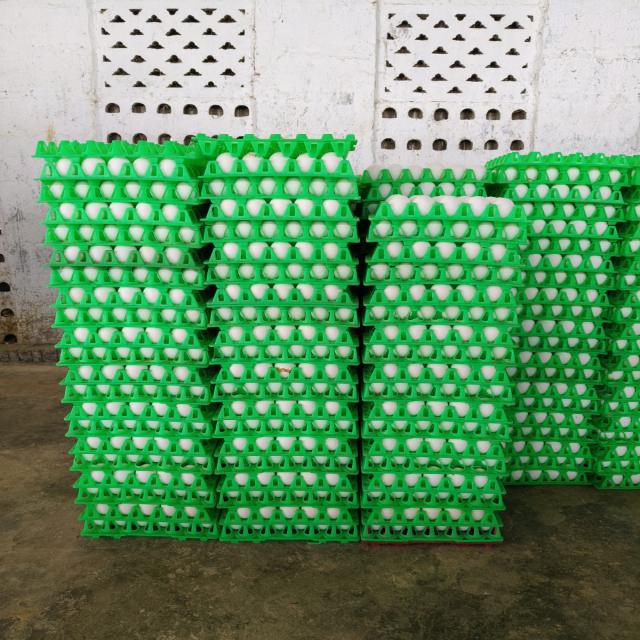egg_tray: (45, 202, 217, 538), (214, 325, 357, 539), (91, 2, 254, 140), (361, 400, 508, 541), (67, 402, 218, 539), (361, 400, 507, 541), (361, 401, 508, 541), (67, 402, 217, 539), (215, 399, 357, 541), (206, 199, 357, 326), (488, 154, 628, 290), (52, 247, 210, 367), (369, 195, 514, 316), (60, 326, 212, 439), (206, 199, 357, 305), (363, 363, 511, 471), (362, 401, 509, 508), (214, 400, 358, 508), (213, 400, 357, 507), (361, 438, 505, 542), (365, 196, 521, 288), (44, 202, 204, 290), (49, 243, 205, 330), (368, 196, 522, 283), (49, 243, 205, 328), (66, 401, 214, 490), (364, 315, 513, 401), (362, 324, 515, 403), (212, 324, 358, 402), (61, 363, 212, 437), (67, 364, 214, 440), (212, 323, 359, 398), (362, 399, 505, 476), (594, 244, 639, 488), (66, 401, 214, 475), (36, 142, 204, 205), (45, 225, 207, 290), (214, 400, 356, 474), (196, 136, 357, 201), (74, 467, 219, 539), (218, 469, 359, 542), (49, 243, 204, 305), (505, 380, 597, 483), (519, 201, 622, 291), (519, 226, 617, 317), (66, 394, 212, 451), (367, 196, 527, 248), (367, 195, 526, 247), (515, 287, 615, 366), (48, 243, 205, 292), (364, 240, 521, 289), (203, 198, 357, 247), (508, 333, 603, 412), (43, 198, 202, 245), (202, 152, 357, 200), (42, 202, 203, 248), (363, 281, 521, 326), (206, 241, 357, 288), (210, 278, 357, 326), (361, 470, 505, 519), (76, 490, 217, 540), (363, 322, 516, 368), (360, 162, 486, 217), (513, 307, 605, 382), (195, 134, 355, 177), (57, 323, 212, 367), (210, 282, 358, 328), (39, 163, 201, 205), (74, 469, 217, 516), (523, 220, 619, 290), (34, 141, 206, 180), (209, 282, 358, 327), (53, 287, 207, 330), (362, 284, 519, 326), (362, 362, 512, 404), (60, 364, 212, 405), (70, 431, 214, 474), (212, 360, 358, 402), (66, 396, 213, 437), (363, 400, 509, 441), (501, 190, 623, 239), (211, 324, 358, 364), (214, 399, 357, 440), (518, 201, 623, 256), (362, 435, 506, 474), (218, 469, 357, 509), (79, 501, 219, 540), (487, 152, 630, 190), (514, 361, 596, 427), (361, 507, 502, 544), (361, 506, 502, 543), (220, 505, 359, 542), (523, 238, 617, 290), (523, 204, 618, 255), (523, 225, 619, 274), (38, 156, 198, 185), (592, 390, 639, 488), (494, 168, 625, 203), (361, 183, 486, 219), (201, 152, 355, 181), (362, 182, 486, 218), (594, 390, 639, 488), (503, 436, 594, 484), (202, 174, 358, 202), (513, 381, 598, 432), (43, 202, 202, 229), (361, 169, 485, 203), (518, 200, 623, 239), (194, 134, 356, 159), (379, 194, 517, 223), (66, 402, 210, 429), (599, 323, 639, 420), (507, 399, 597, 441), (508, 402, 596, 444), (511, 192, 625, 223), (505, 434, 593, 473), (503, 447, 593, 485), (523, 253, 614, 290), (519, 286, 617, 320), (507, 349, 604, 383), (512, 319, 606, 354), (361, 162, 487, 186), (361, 162, 486, 186), (501, 182, 623, 206), (612, 202, 639, 291), (593, 386, 638, 432), (502, 467, 591, 486), (593, 411, 639, 446), (611, 237, 639, 292), (97, 490, 187, 507), (599, 385, 639, 422), (607, 283, 639, 327), (602, 354, 639, 387), (607, 286, 639, 324), (593, 463, 639, 489), (178, 493, 216, 524), (607, 322, 639, 355), (623, 168, 639, 222), (102, 365, 160, 379), (620, 203, 638, 238), (626, 155, 639, 203), (481, 283, 512, 302), (163, 368, 201, 382), (319, 495, 339, 518), (193, 450, 212, 472), (165, 248, 193, 262), (58, 158, 82, 174), (588, 354, 602, 379), (378, 285, 399, 301), (338, 493, 356, 510), (134, 158, 151, 174), (509, 248, 519, 274), (92, 158, 106, 175), (505, 304, 515, 325), (517, 383, 530, 399), (465, 308, 485, 318), (299, 528, 317, 538), (512, 371, 533, 379), (261, 528, 279, 537), (173, 335, 190, 344), (188, 384, 203, 394), (149, 327, 159, 342), (394, 273, 406, 285), (537, 309, 557, 316), (162, 347, 174, 358), (57, 247, 69, 258), (299, 289, 307, 304), (495, 186, 507, 196), (516, 351, 523, 368), (188, 373, 202, 381), (317, 513, 326, 524), (555, 383, 569, 390), (61, 353, 73, 361), (597, 207, 610, 214), (321, 477, 328, 490), (631, 232, 639, 243), (394, 370, 405, 378), (145, 512, 156, 520), (190, 384, 202, 391), (372, 213, 378, 226), (171, 457, 182, 464), (274, 512, 281, 523), (309, 289, 317, 298), (297, 478, 309, 484), (367, 318, 379, 324), (309, 299, 319, 306), (84, 162, 91, 172), (374, 208, 380, 219), (367, 278, 378, 284), (287, 263, 300, 268), (107, 454, 115, 462), (153, 371, 160, 380), (470, 403, 480, 409), (348, 479, 355, 487), (372, 405, 380, 412), (594, 416, 601, 424), (150, 457, 161, 462), (513, 226, 518, 237), (487, 224, 493, 233), (121, 163, 126, 173), (129, 455, 136, 462), (183, 237, 191, 243), (124, 247, 136, 251), (378, 309, 384, 317), (514, 336, 519, 345), (503, 273, 509, 280), (159, 159, 173, 162), (386, 439, 392, 446), (83, 158, 93, 162), (563, 455, 571, 460), (112, 158, 125, 161), (163, 478, 169, 484), (527, 441, 539, 444), (633, 292, 639, 298), (547, 169, 556, 173), (629, 356, 636, 361), (466, 444, 473, 449), (227, 286, 231, 294), (591, 389, 595, 397), (102, 365, 110, 369), (93, 158, 101, 162), (161, 134, 169, 138), (265, 263, 275, 266), (190, 350, 195, 356), (127, 252, 132, 258), (68, 379, 74, 384), (407, 365, 414, 369), (186, 473, 193, 477), (144, 159, 148, 166), (313, 516, 317, 523), (77, 385, 81, 392), (501, 412, 505, 419), (351, 271, 354, 280), (498, 446, 501, 455), (172, 446, 177, 451), (196, 470, 201, 475), (298, 274, 302, 280), (138, 366, 146, 369), (635, 325, 639, 331), (471, 198, 483, 200), (472, 516, 476, 522), (126, 366, 133, 369), (88, 247, 95, 250), (476, 441, 483, 444), (523, 204, 527, 209), (166, 510, 171, 514), (329, 482, 334, 486), (590, 228, 595, 232), (575, 307, 579, 312), (275, 528, 281, 531), (286, 515, 292, 518), (502, 226, 506, 230), (238, 264, 242, 268), (513, 434, 517, 438), (610, 170, 614, 174), (306, 513, 310, 517), (243, 480, 247, 484), (548, 349, 553, 352), (388, 335, 393, 338), (492, 407, 497, 410), (111, 161, 114, 166), (162, 253, 165, 258), (115, 159, 122, 161), (294, 296, 300, 298), (575, 384, 579, 387), (533, 383, 539, 385), (175, 487, 181, 489), (69, 180, 73, 183), (163, 162, 165, 168), (138, 162, 140, 168), (87, 250, 91, 253), (298, 527, 301, 531), (350, 489, 354, 492), (343, 486, 345, 492), (263, 481, 267, 484), (375, 416, 381, 418), (601, 342, 603, 347), (130, 163, 132, 168), (174, 168, 176, 173), (573, 402, 578, 404), (363, 517, 365, 522), (292, 300, 295, 303), (370, 259, 373, 262), (125, 338, 128, 341), (56, 261, 59, 264), (559, 383, 562, 386), (54, 254, 56, 258), (408, 308, 410, 312), (401, 308, 403, 312), (556, 308, 558, 312), (575, 358, 578, 360), (575, 473, 578, 475), (419, 365, 422, 367), (305, 269, 311, 270), (132, 451, 134, 454), (436, 198, 439, 200), (193, 530, 195, 533), (149, 507, 151, 510), (189, 480, 192, 482), (612, 209, 614, 212), (243, 376, 245, 379), (179, 282, 182, 284), (83, 255, 86, 257), (321, 494, 323, 497), (606, 469, 609, 471), (481, 535, 484, 537), (493, 531, 495, 534), (368, 274, 371, 276), (101, 533, 106, 534), (175, 176, 180, 177), (405, 376, 409, 377), (169, 464, 171, 466), (84, 366, 86, 368), (456, 216, 458, 218), (81, 186, 83, 188), (620, 366, 622, 368), (538, 222, 540, 224), (489, 534, 491, 536), (387, 320, 389, 322), (560, 307, 564, 308), (294, 304, 297, 305), (585, 356, 586, 359), (576, 456, 579, 457), (381, 209, 384, 210), (574, 169, 577, 170), (396, 165, 399, 166), (371, 238, 374, 239), (66, 401, 68, 402), (307, 320, 309, 321), (525, 371, 526, 373), (502, 464, 503, 466), (366, 405, 368, 406), (563, 398, 564, 400), (345, 461, 346, 463), (87, 458, 89, 459), (558, 431, 560, 432), (182, 525, 184, 526), (101, 512, 103, 513), (318, 353, 320, 354), (576, 443, 577, 445), (438, 369, 439, 371), (620, 278, 621, 280), (348, 383, 350, 384), (585, 187, 587, 188), (276, 482, 277, 484), (241, 476, 243, 477), (490, 446, 491, 448), (569, 447, 570, 448), (543, 205, 544, 206), (471, 245, 472, 246), (502, 438, 503, 439), (498, 429, 499, 430), (194, 458, 195, 459), (89, 496, 90, 497), (196, 345, 197, 346), (156, 167, 157, 168), (336, 338, 337, 339), (349, 382, 350, 383), (288, 320, 289, 321), (163, 509, 164, 510), (385, 318, 386, 319), (115, 471, 116, 472), (270, 288, 271, 288), (518, 414, 519, 414), (560, 352, 566, 352), (579, 450, 579, 452), (503, 434, 503, 434), (414, 214, 415, 214), (136, 366, 137, 366), (501, 272, 502, 272), (565, 314, 565, 314), (194, 536, 199, 536), (143, 518, 143, 519), (205, 410, 205, 412), (201, 276, 201, 279), (171, 161, 172, 161), (134, 432, 134, 432), (208, 436, 210, 436), (78, 436, 79, 436), (70, 434, 71, 434), (216, 243, 220, 243), (619, 280, 619, 283), (163, 343, 164, 343), (94, 328, 95, 328), (260, 372, 261, 372), (201, 278, 201, 278), (258, 443, 261, 443), (585, 172, 586, 172), (569, 170, 570, 170), (398, 441, 399, 441), (492, 520, 492, 521), (423, 170, 423, 172), (78, 368, 80, 368), (396, 312, 397, 312), (380, 283, 382, 283), (401, 228, 401, 228)
